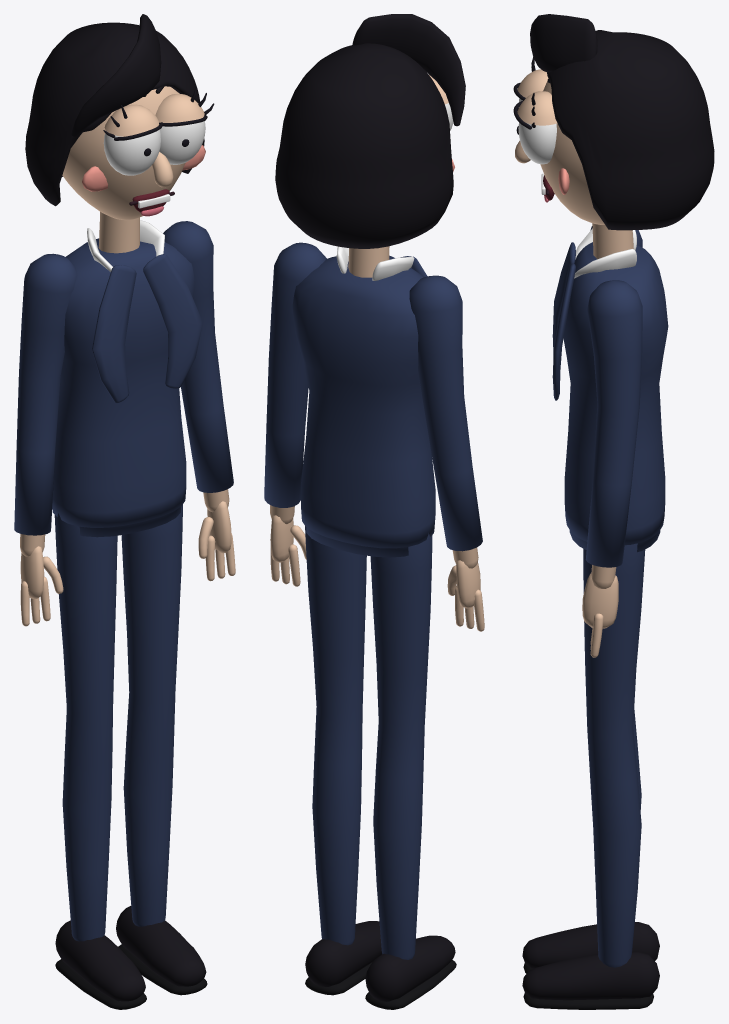
Rendered from clara.glb.
3 renders of one model, left to right at view 1: azimuth 30°, elevation 25°; view 2: azimuth 150°, elevation 25°; view 3: azimuth 270°, elevation 25°, orthographic.
Visible parts, largest first — view 1: Torso_top, Leg_0_limb, Leg_1_limb, Arm_0_sleeve, Hair_cap, Arm_1_sleeve, Head_skull, Detail_lapel_1, Detail_lapel_-1, Hair_bang_0, Leg_1_shoe, Leg_0_shoe (+14 smaller); view 2: Torso_top, Hair_cap, Leg_0_limb, Leg_1_limb, Arm_0_sleeve, Arm_1_sleeve, Hair_bang_0, Leg_0_shoe, Leg_1_shoe, Leg_0_sole, Neck, Torso_pants (+6 smaller); view 3: Hair_cap, Leg_1_limb, Torso_top, Arm_1_sleeve, Leg_1_shoe, Hair_bang_0, Leg_0_shoe, Head_skull, Arm_1_hand, Leg_1_sole, Eye_1_white, Detail_lapel_1 (+6 smaller).
Part boxes in pixels (x1,y1,x2,y2): Torso_top: (52, 238, 194, 527); Leg_0_limb: (54, 513, 117, 941); Leg_1_limb: (121, 504, 182, 926); Arm_0_sleeve: (14, 253, 77, 535); Hair_cap: (25, 22, 204, 206); Arm_1_sleeve: (163, 221, 233, 492); Head_skull: (62, 86, 185, 220); Detail_lapel_1: (143, 254, 202, 388); Detail_lapel_-1: (92, 265, 136, 403); Hair_bang_0: (71, 14, 161, 136); Leg_1_shoe: (116, 906, 206, 986); Leg_0_shoe: (55, 920, 145, 1001); Torso_top: (292, 255, 435, 548); Hair_cap: (275, 43, 453, 248); Leg_0_limb: (370, 533, 432, 959); Leg_1_limb: (305, 526, 366, 945); Arm_0_sleeve: (409, 275, 482, 551); Arm_1_sleeve: (264, 242, 326, 507); Hair_bang_0: (352, 14, 465, 126); Leg_0_shoe: (365, 935, 455, 1001); Leg_1_shoe: (305, 921, 382, 986); Leg_0_sole: (365, 960, 456, 1009); Neck: (348, 246, 389, 277); Torso_pants: (306, 527, 408, 557); Hair_cap: (547, 30, 714, 230); Leg_1_limb: (583, 543, 645, 967); Torso_top: (563, 242, 668, 545); Arm_1_sleeve: (585, 280, 642, 567); Leg_1_shoe: (522, 951, 659, 1000); Hair_bang_0: (530, 14, 597, 72); Leg_0_shoe: (522, 922, 659, 968); Head_skull: (540, 81, 604, 224); Arm_1_hand: (582, 573, 618, 628); Leg_1_sole: (523, 993, 653, 1009); Eye_1_white: (518, 122, 556, 164); Detail_lapel_1: (552, 263, 575, 400).
Bounding box in the file's own units: 0.4187 × 1.79 × 0.3354.
